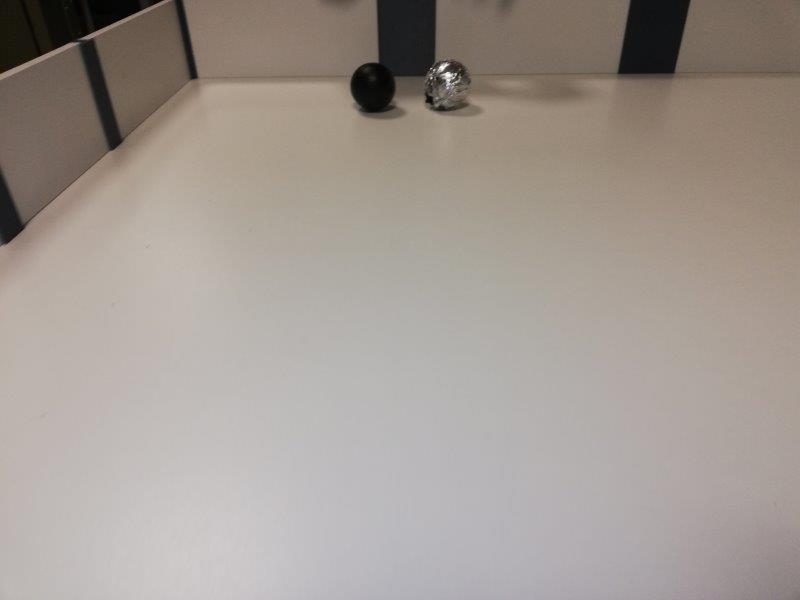bianca: (424, 59, 469, 109)
nera: (351, 63, 396, 111)
